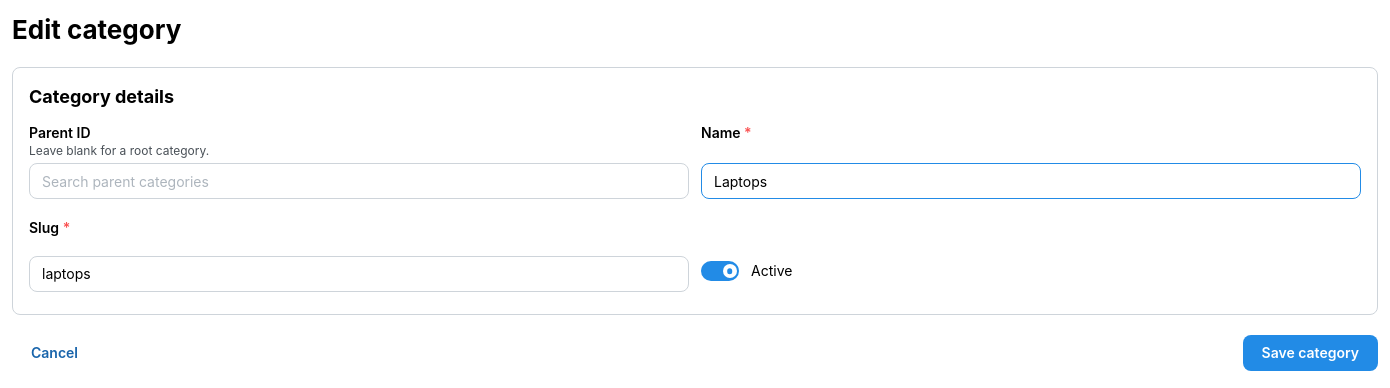
CategoryFormView › loads parent category options from the admin category API
Click the dropdown labelled "Parent ID" at coordinates (359, 181), box [29,163,689,199]
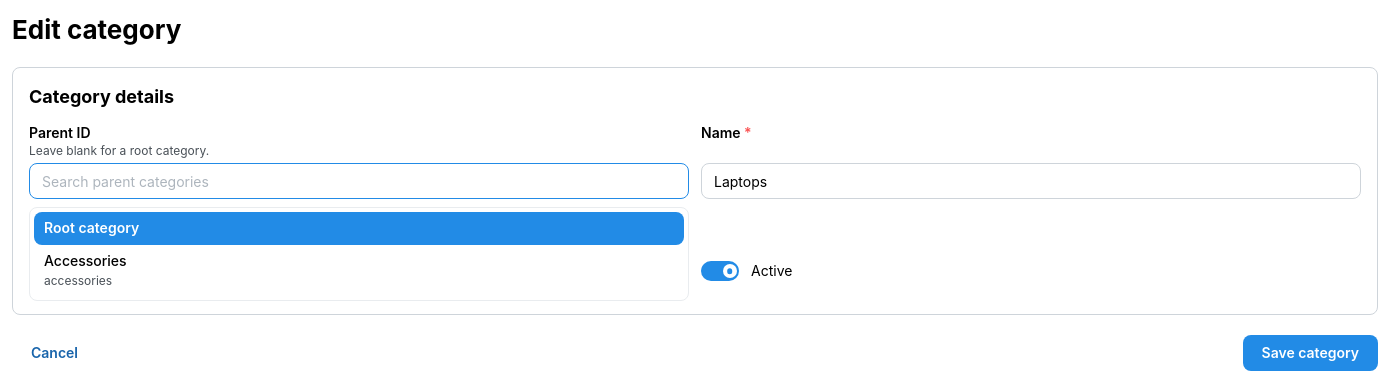
Check: the option "Accessories accessories" is shown, box [44,252,127,288]
